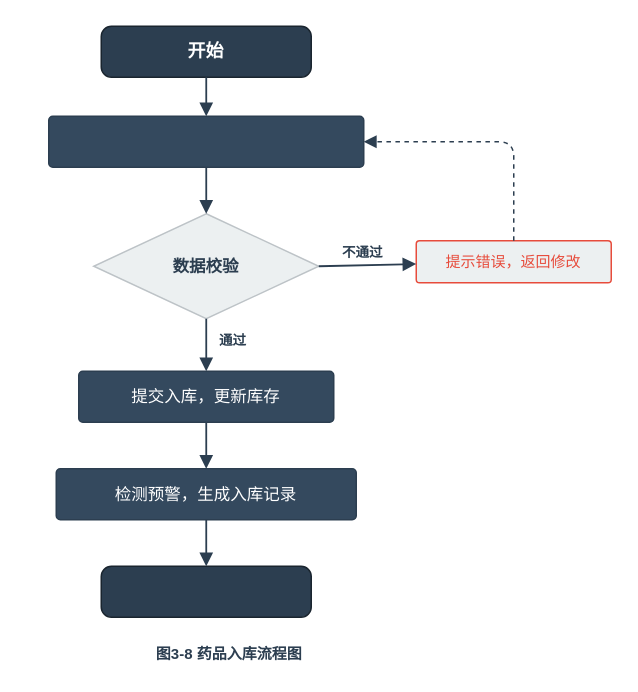
This 638x692 diagram has some shape labels left out. Here are the shapes that lost their labels. From the top down, the centre of each, then its label:
At point 205,141: "创建入库单，填写入库信息".
At point 205,591: "结束".
